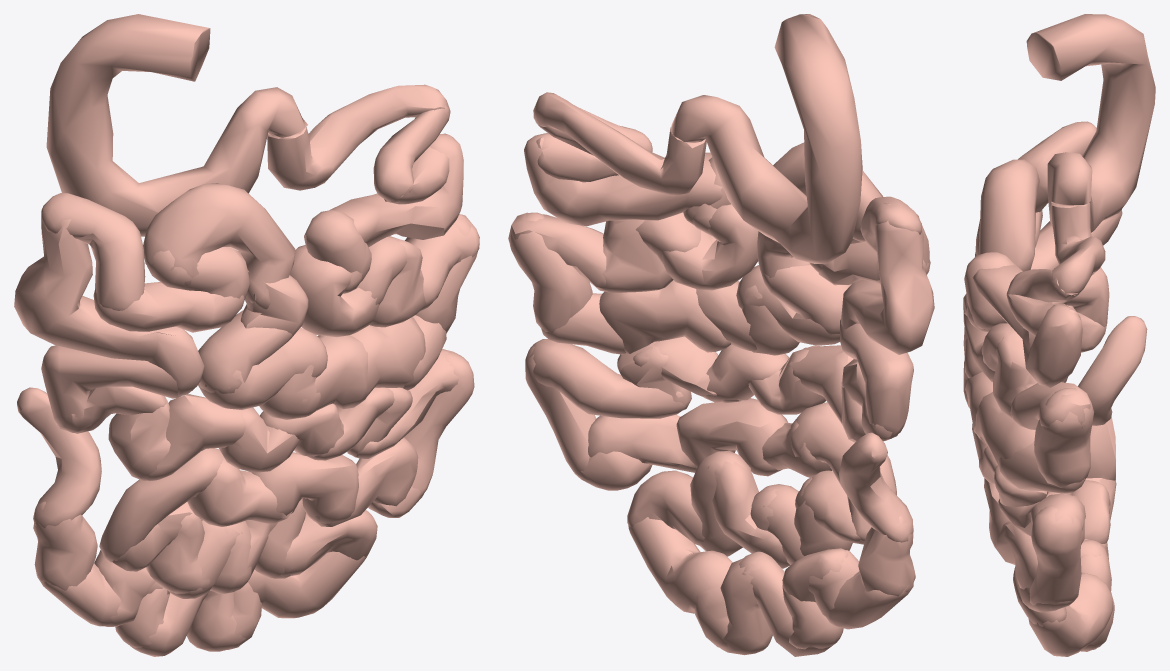
The model's file is small-intestine.glb.
3 renders of one model, left to right at view 1: azimuth 30°, elevation 25°; view 2: azimuth 150°, elevation 25°; view 3: azimuth 270°, elevation 25°, orthographic. The views are drawn at different scales.
Parts seen in each view (by area): view 1: FJ2573, FJ2621, FJ2616, FJ2606, FJ2620, FJ2574, FJ2599, FJ2623, FJ2580, FJ2578, FJ2619, FJ2626 (+42 smaller); view 2: FJ2573, FJ2621, FJ2623, FJ2606, FJ2605, FJ2610, FJ2578, FJ2589, FJ2626, FJ2608, FJ2574, FJ2599 (+41 smaller); view 3: FJ2573, FJ2616, FJ2623, FJ2575, FJ2599, FJ2608, FJ2589, FJ2606, FJ2607, FJ2610, FJ2620, FJ2628 (+24 smaller).
Boxes of the visible parts, x1=… form: FJ2573: x1=46, y1=14, x2=307, y2=236; FJ2621: x1=14, y1=197, x2=204, y2=396; FJ2616: x1=143, y1=183, x2=295, y2=309; FJ2606: x1=267, y1=84, x2=450, y2=190; FJ2620: x1=41, y1=193, x2=145, y2=310; FJ2574: x1=41, y1=345, x2=193, y2=432; FJ2599: x1=17, y1=387, x2=101, y2=528; FJ2623: x1=329, y1=133, x2=463, y2=246; FJ2580: x1=99, y1=448, x2=223, y2=562; FJ2578: x1=251, y1=452, x2=358, y2=523; FJ2619: x1=93, y1=282, x2=244, y2=332; FJ2626: x1=290, y1=245, x2=379, y2=337; FJ2573: x1=670, y1=14, x2=862, y2=264; FJ2621: x1=841, y1=203, x2=934, y2=354; FJ2623: x1=524, y1=133, x2=722, y2=226; FJ2606: x1=533, y1=92, x2=706, y2=196; FJ2605: x1=529, y1=340, x2=687, y2=418; FJ2610: x1=599, y1=280, x2=730, y2=353; FJ2578: x1=676, y1=398, x2=788, y2=476; FJ2589: x1=628, y1=517, x2=732, y2=613; FJ2626: x1=662, y1=204, x2=758, y2=290; FJ2608: x1=510, y1=212, x2=592, y2=332; FJ2574: x1=840, y1=319, x2=913, y2=439; FJ2599: x1=839, y1=432, x2=913, y2=542; FJ2573: x1=1026, y1=14, x2=1155, y2=232; FJ2616: x1=979, y1=159, x2=1039, y2=271; FJ2623: x1=972, y1=265, x2=1082, y2=387; FJ2575: x1=1029, y1=505, x2=1081, y2=612; FJ2599: x1=1078, y1=316, x2=1147, y2=425; FJ2608: x1=1034, y1=388, x2=1094, y2=487; FJ2589: x1=1028, y1=572, x2=1113, y2=656; FJ2606: x1=1051, y1=202, x2=1105, y2=295; FJ2607: x1=1010, y1=382, x2=1090, y2=429; FJ2610: x1=975, y1=392, x2=1035, y2=465; FJ2620: x1=1018, y1=121, x2=1096, y2=212; FJ2628: x1=992, y1=328, x2=1037, y2=419.
Bounding box in the file's own units: 0.581 × 0.815 × 0.2396.
